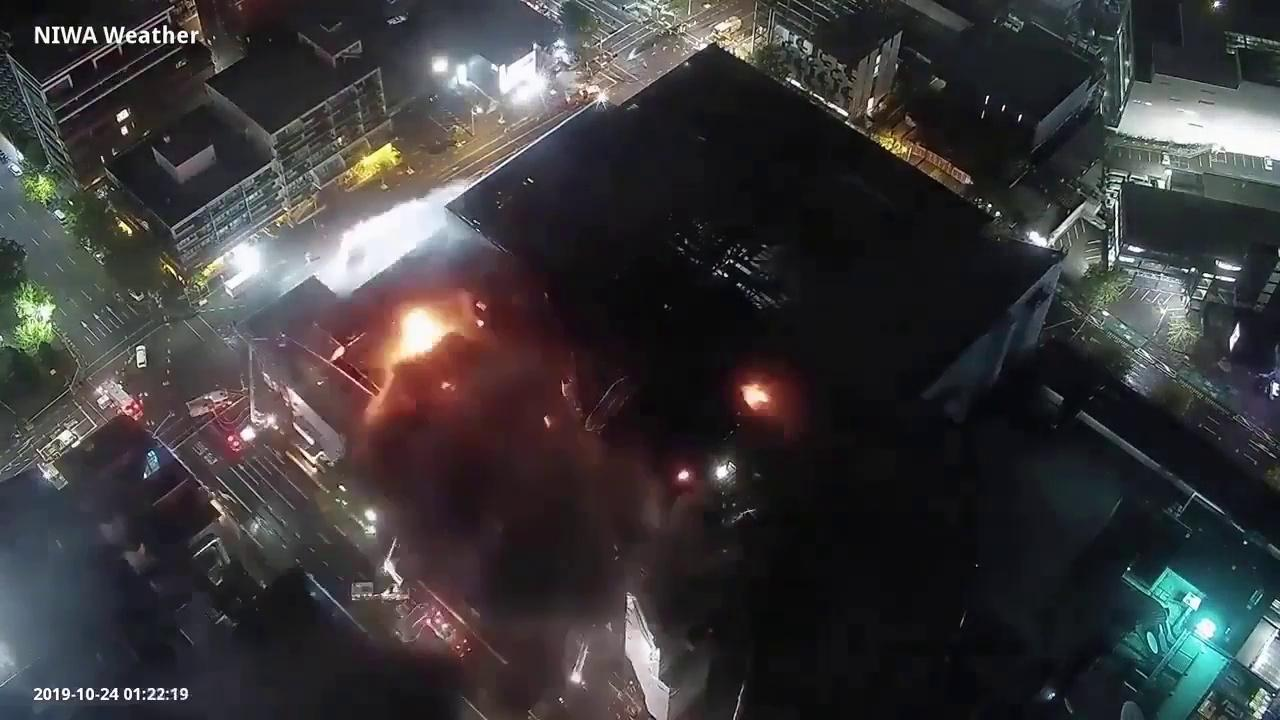Fire: (390, 309, 465, 362), (743, 380, 775, 410)
